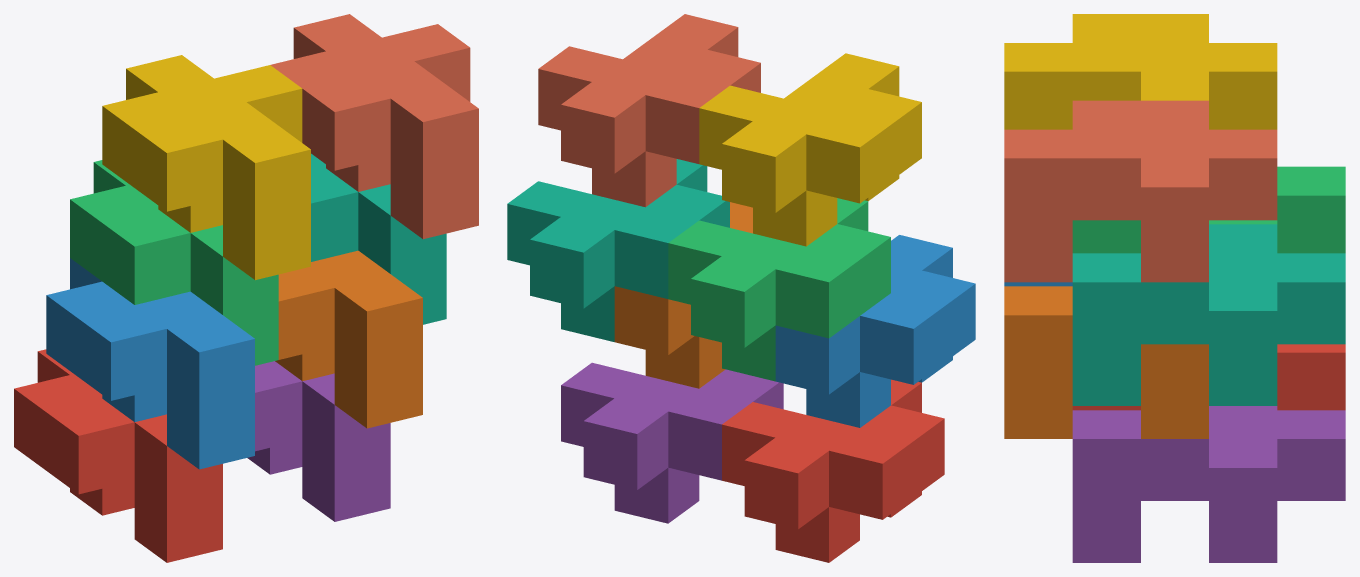
File: tiling.obj
3 renders of one model, left to right at view 1: azimuth 30°, elevation 25°; view 2: azimuth 150°, elevation 25°; view 3: azimuth 270°, elevation 25°, orthographic. The views are drawn at different scales.
Visible parts, largest first — view 1: copy_1_domain_4, copy_1_domain_8, copy_1_domain_2, copy_1_domain_1, copy_1_domain_6, copy_1_domain_3, copy_1_domain_5, copy_1_domain_7; view 2: copy_1_domain_4, copy_1_domain_1, copy_1_domain_8, copy_1_domain_3, copy_1_domain_5, copy_1_domain_7, copy_1_domain_2, copy_1_domain_6; view 3: copy_1_domain_8, copy_1_domain_7, copy_1_domain_5, copy_1_domain_4, copy_1_domain_6, copy_1_domain_3, copy_1_domain_1.
Boxes of the visible parts, x1,y1,x2,y2 form: copy_1_domain_4: [102, 55, 310, 280]; copy_1_domain_8: [270, 14, 478, 239]; copy_1_domain_2: [46, 258, 254, 469]; copy_1_domain_1: [14, 349, 222, 562]; copy_1_domain_6: [275, 250, 422, 428]; copy_1_domain_3: [70, 160, 278, 365]; copy_1_domain_5: [247, 361, 390, 521]; copy_1_domain_7: [311, 153, 446, 324]; copy_1_domain_4: [699, 53, 921, 246]; copy_1_domain_1: [722, 379, 944, 562]; copy_1_domain_8: [538, 14, 760, 207]; copy_1_domain_3: [668, 198, 890, 381]; copy_1_domain_5: [561, 362, 783, 523]; copy_1_domain_7: [507, 159, 729, 341]; copy_1_domain_2: [775, 235, 975, 427]; copy_1_domain_6: [614, 202, 752, 388]; copy_1_domain_8: [1004, 100, 1277, 282]; copy_1_domain_7: [1072, 224, 1345, 405]; copy_1_domain_5: [1072, 406, 1345, 562]; copy_1_domain_4: [1004, 14, 1277, 129]; copy_1_domain_6: [1004, 286, 1208, 438]; copy_1_domain_3: [1072, 166, 1345, 253]; copy_1_domain_1: [1072, 344, 1345, 410].
Size of the model in its own units: 7 by 7 by 5.
